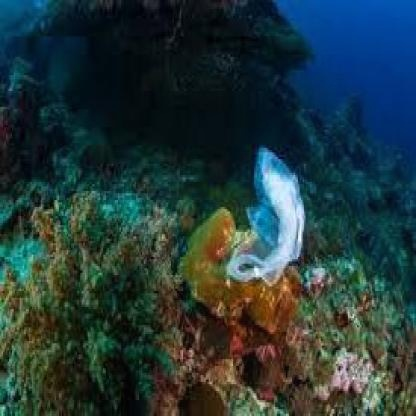pbag: (227, 143, 305, 282)
